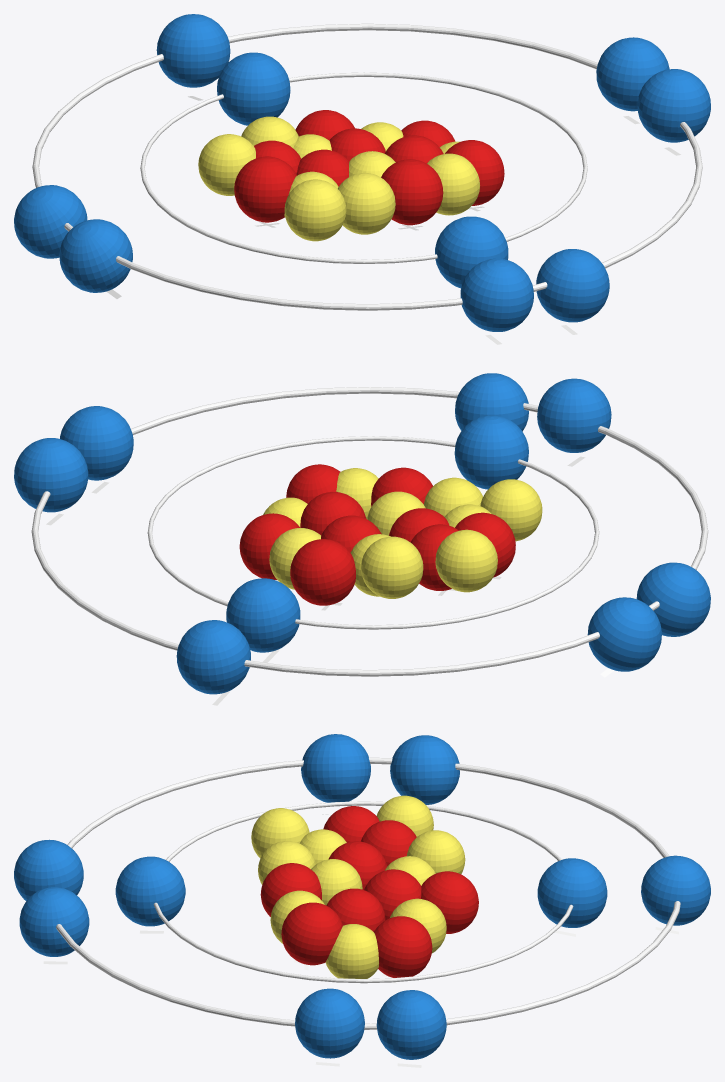
The picture shows the model from 3 angles, top to bottom: view 1: azimuth 30°, elevation 25°; view 2: azimuth 150°, elevation 25°; view 3: azimuth 270°, elevation 25°; orthographic projection. The views are drawn at different scales.
Visible parts, largest first — view 1: Torus.002, Torus.001, -.008, -.004, -.005, -.003, -.002, -.001, -.006, -.007, -, f.008 (+16 smaller); view 2: Torus.002, Torus.001, -.004, -.008, -.006, -.007, -, -.001, -.003, -.002, f.007, Sphere.009 (+17 smaller); view 3: Torus.002, Torus.001, -.002, -.007, -.003, -, -.001, -.006, -.004, -.005, -.008, f.004 (+18 smaller).
Boxes of the visible parts, x1=… form: Torus.002: x1=32, y1=23, x2=702, y2=310; Torus.001: x1=140, y1=72, x2=587, y2=263; -.008: x1=460, y1=258, x2=533, y2=331; -.004: x1=156, y1=14, x2=230, y2=87; -.005: x1=536, y1=249, x2=609, y2=322; -.003: x1=59, y1=219, x2=132, y2=292; -.002: x1=637, y1=69, x2=710, y2=142; -.001: x1=217, y1=52, x2=290, y2=125; -.006: x1=14, y1=185, x2=87, y2=258; -.007: x1=596, y1=37, x2=669, y2=111; -: x1=435, y1=216, x2=508, y2=288; f.008: x1=234, y1=156, x2=296, y2=222; Torus.002: x1=31, y1=387, x2=708, y2=676; Torus.001: x1=147, y1=436, x2=599, y2=629; -.004: x1=176, y1=620, x2=250, y2=694; -.008: x1=537, y1=378, x2=611, y2=452; -.006: x1=587, y1=597, x2=661, y2=671; -.007: x1=14, y1=438, x2=88, y2=512; -: x1=454, y1=415, x2=528, y2=489; -.001: x1=226, y1=578, x2=300, y2=652; -.003: x1=636, y1=562, x2=710, y2=636; -.002: x1=60, y1=406, x2=133, y2=480; f.007: x1=290, y1=539, x2=355, y2=605; Sphere.009: x1=435, y1=529, x2=497, y2=592; Torus.002: x1=56, y1=757, x2=680, y2=1029; Torus.001: x1=153, y1=801, x2=573, y2=983; -.002: x1=295, y1=988, x2=364, y2=1058; -.007: x1=376, y1=990, x2=446, y2=1059; -.003: x1=301, y1=734, x2=370, y2=802; -: x1=115, y1=856, x2=185, y2=926; -.001: x1=537, y1=858, x2=607, y2=927; -.006: x1=390, y1=735, x2=459, y2=804; -.004: x1=641, y1=855, x2=710, y2=925; -.005: x1=19, y1=887, x2=89, y2=956; -.008: x1=14, y1=839, x2=83, y2=900; f.004: x1=281, y1=902, x2=342, y2=965.
Size of the model in its own units: 4.67 by 0.6772 by 4.63.
